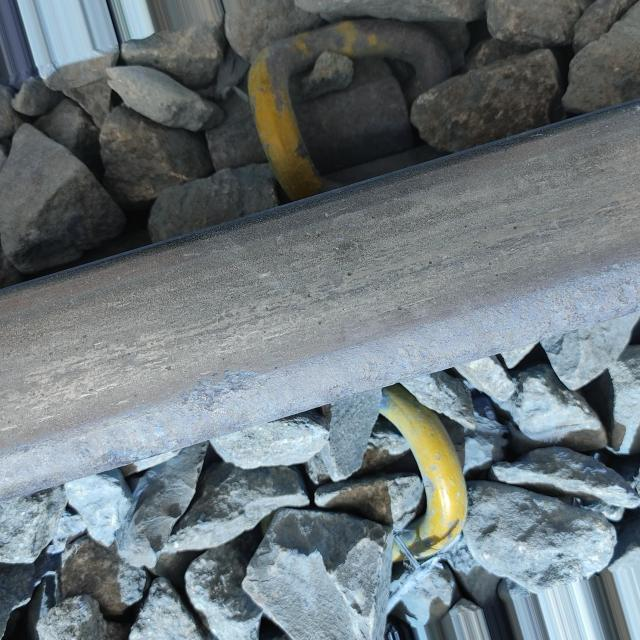broken_rail_medium: (169, 368, 269, 414), (14, 443, 36, 456)
